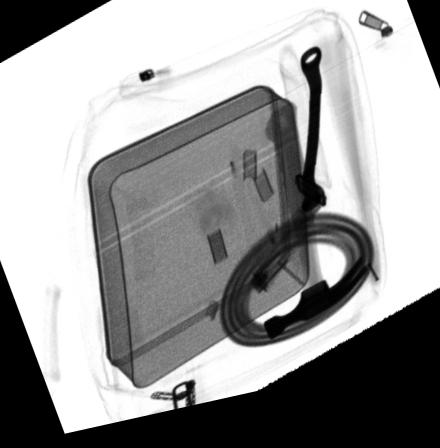Hammer: (262, 115, 370, 354)
Wrench: (300, 62, 322, 226)
